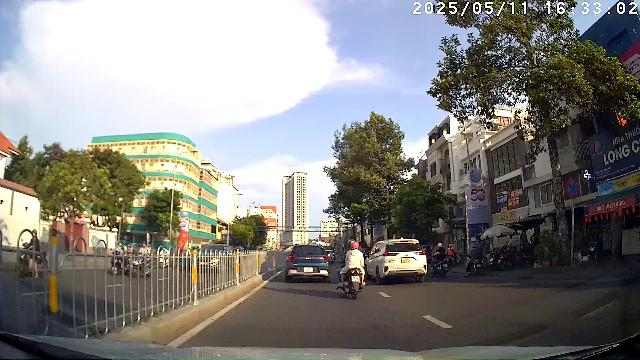130-cam-dung-va-do-xe: (566, 178, 580, 198)
